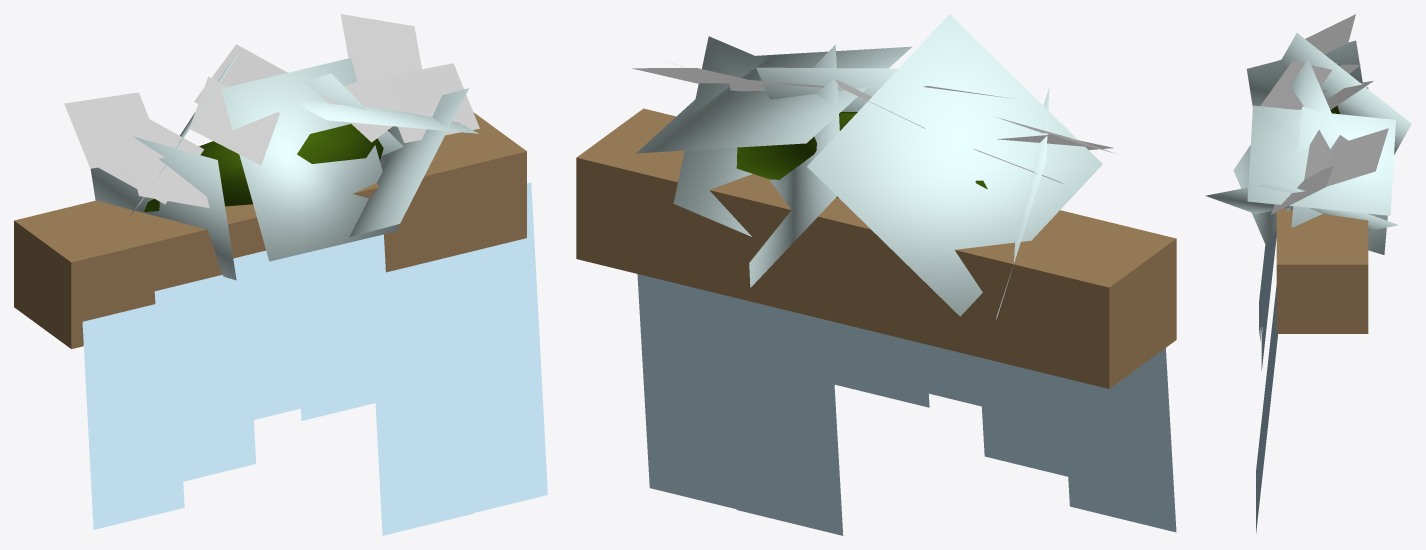
Rendered from window_box.gltf.
3 views of the same model, side by side, from view 1: azimuth 30°, elevation 25°; view 2: azimuth 150°, elevation 25°; view 3: azimuth 270°, elevation 25° (orthographic). The views are drawn at different scales.
Visible parts, largest first — view 1: window_box_Leaf_Ivy, window_box_Trellis_Wood, window_box_Leaf_Mid, window_box_Bloom_Red, window_box_Bloom_Pink, window_box_Core_Mid, window_box_Bloom_Violet, window_box_Bloom_Yellow, window_box_Bloom_Cream; view 2: window_box_Leaf_Ivy, window_box_Trellis_Wood, window_box_Leaf_Mid, window_box_Core_Mid, window_box_Bloom_Pink, window_box_Bloom_Red; view 3: window_box_Leaf_Mid, window_box_Trellis_Wood, window_box_Bloom_Red, window_box_Leaf_Ivy, window_box_Bloom_Pink, window_box_Bloom_Violet, window_box_Bloom_Yellow.
Boxes of the visible parts, left/top/right/bottom form: window_box_Leaf_Ivy: left=82, top=182, right=547, bottom=535; window_box_Trellis_Wood: left=14, top=112, right=526, bottom=348; window_box_Leaf_Mid: left=90, top=53, right=478, bottom=280; window_box_Bloom_Red: left=64, top=63, right=479, bottom=168; window_box_Bloom_Pink: left=124, top=14, right=421, bottom=208; window_box_Core_Mid: left=144, top=124, right=388, bottom=211; window_box_Bloom_Violet: left=189, top=76, right=279, bottom=165; window_box_Bloom_Yellow: left=194, top=44, right=287, bottom=103; window_box_Bloom_Cream: left=98, top=119, right=203, bottom=204; window_box_Leaf_Ivy: left=637, top=274, right=1176, bottom=535; window_box_Trellis_Wood: left=576, top=108, right=1176, bottom=388; window_box_Leaf_Mid: left=636, top=14, right=1102, bottom=319; window_box_Core_Mid: left=736, top=112, right=987, bottom=198; window_box_Bloom_Pink: left=632, top=68, right=1113, bottom=149; window_box_Bloom_Red: left=673, top=63, right=1116, bottom=153; window_box_Leaf_Mid: left=1205, top=33, right=1411, bottom=254; window_box_Trellis_Wood: left=1276, top=87, right=1368, bottom=333; window_box_Bloom_Red: left=1271, top=14, right=1355, bottom=214; window_box_Leaf_Ivy: left=1256, top=230, right=1282, bottom=533; window_box_Bloom_Pink: left=1277, top=47, right=1388, bottom=186; window_box_Bloom_Violet: left=1260, top=61, right=1336, bottom=109; window_box_Bloom_Yellow: left=1326, top=81, right=1373, bottom=109.
Size of the model in its own units: 1.12 by 1.14 by 0.5419.
